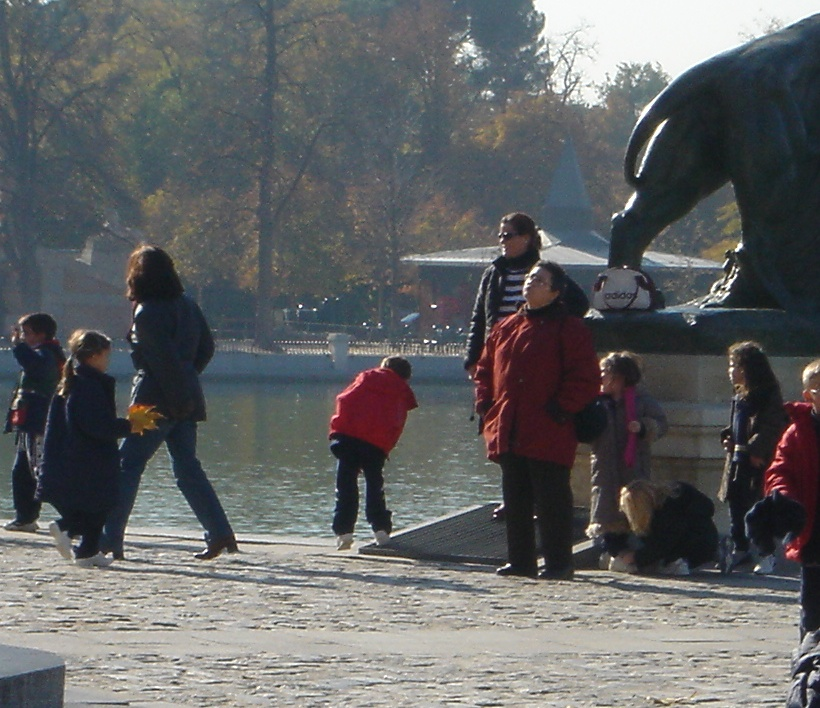person: (481, 254, 595, 575), (588, 353, 657, 573)
